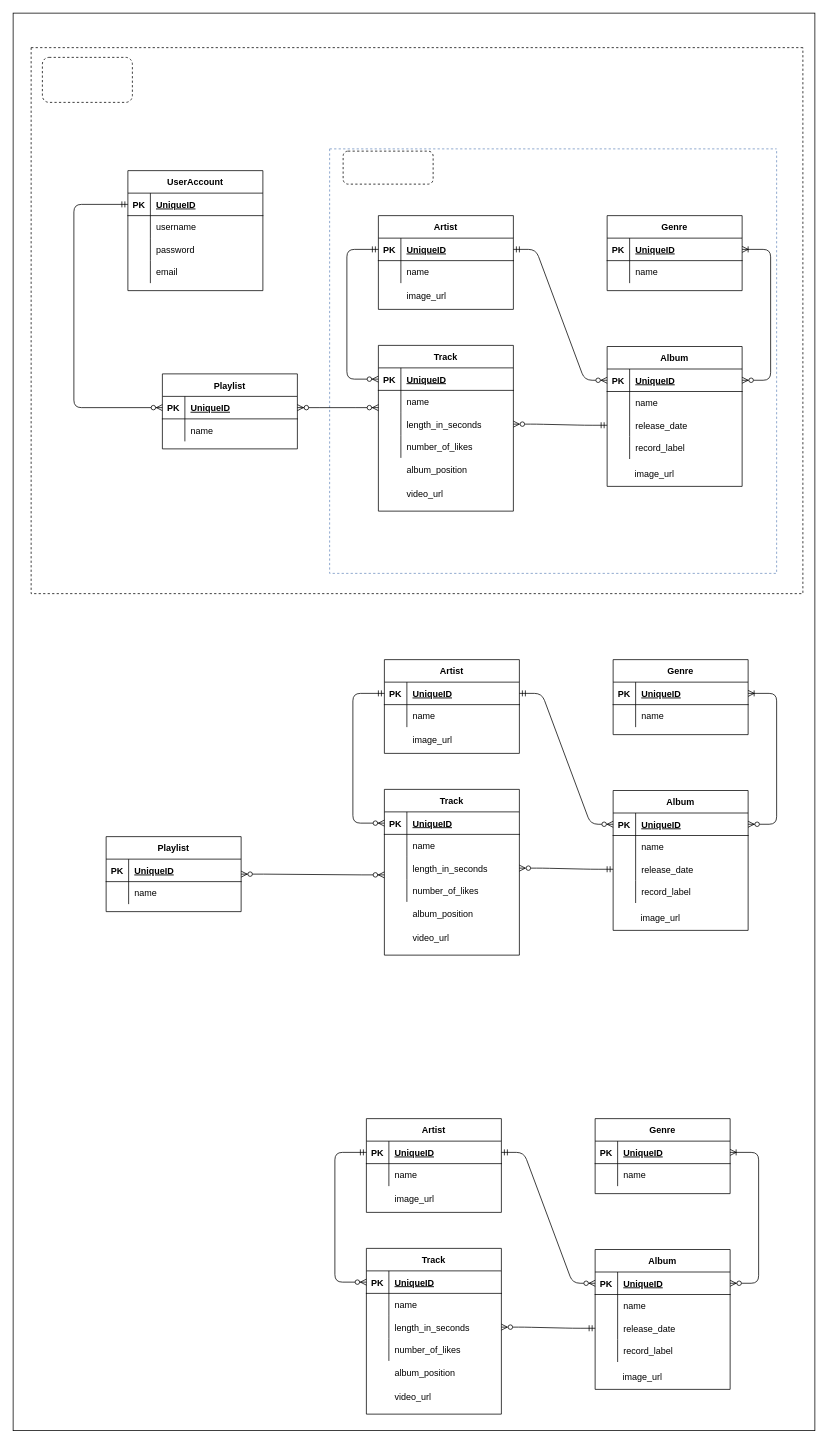
The diagram is 828 pixels wide and 1444 high, and some of its shapes have lost their labels. The centre of each missing label's shape, as x and y in pixels:
"FOR ALL" goes at [387,167].
"FOR CONNECTED" goes at [87,79].
